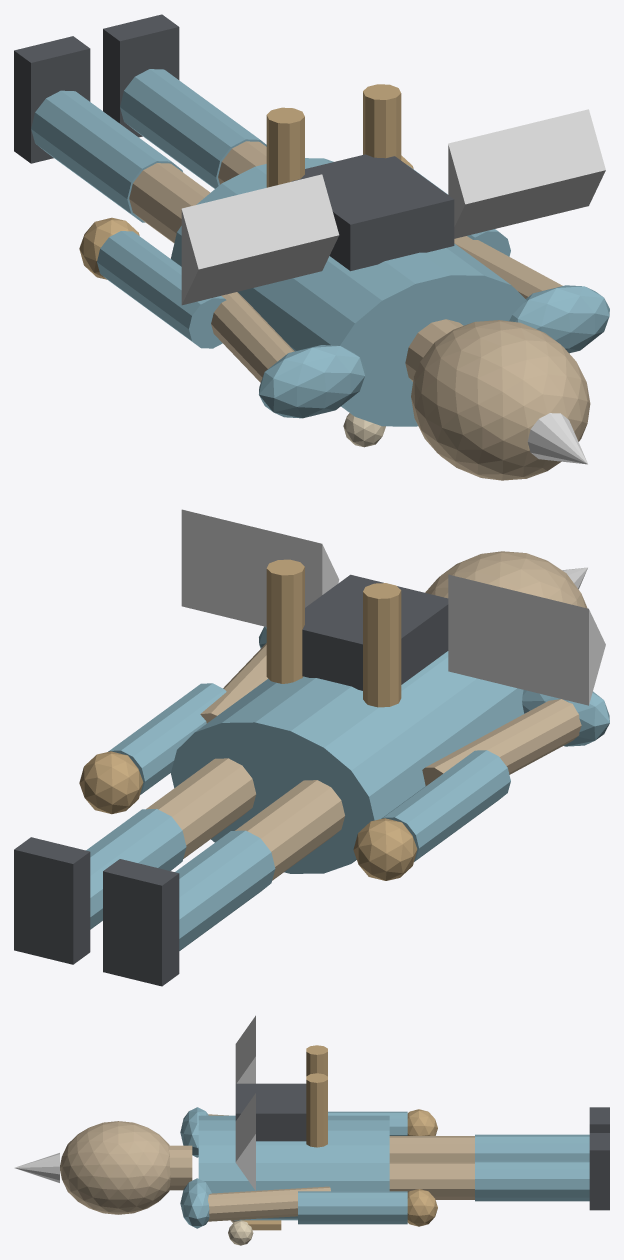
Rendered from SWN-012_maeve_quill.glb.
3 renders of one model, top to bottom at view 1: azimuth 30°, elevation 25°; view 2: azimuth 150°, elevation 25°; view 3: azimuth 270°, elevation 25°, orthographic. The views are drawn at different scales.
Parts seen in each view (by area): view 1: body_spine, head, folded_wing_-1, folded_wing_1, back_thruster_pack, greave_-1, greave_1, forearm_gauntlet_-1, shoulder_plate_-1, boot_-1, boot_1, shoulder_plate_1 (+11 smaller); view 2: body_spine, folded_wing_-1, folded_wing_1, back_thruster_pack, boot_1, boot_-1, greave_-1, forearm_gauntlet_-1, thigh_1, thigh_-1, upper_arm_-1, greave_1 (+8 smaller); view 3: body_spine, head, greave_1, forearm_gauntlet_1, back_thruster_pack, greave_-1, thigh_1, upper_arm_1, thigh_-1, boot_1, aether_thruster_1, folded_wing_1 (+12 smaller).
Boxes of the visible parts, box(x1,y1,x2,y2) form: body_spine: box(171, 158, 526, 426); head: box(411, 320, 590, 480); folded_wing_-1: box(181, 174, 339, 305); folded_wing_1: box(448, 109, 605, 238); back_thruster_pack: box(291, 154, 454, 271); greave_-1: box(31, 90, 182, 222); greave_1: box(120, 69, 266, 188); forearm_gauntlet_-1: box(97, 231, 226, 348); shoulder_plate_-1: box(259, 345, 365, 418); boot_-1: box(14, 36, 90, 163); boot_1: box(103, 14, 179, 137); shoulder_plate_1: box(509, 285, 609, 353); body_spine: box(171, 651, 524, 873); folded_wing_-1: box(448, 574, 605, 705); folded_wing_1: box(181, 509, 339, 626); back_thruster_pack: box(302, 574, 448, 690); boot_1: box(14, 837, 90, 964); boot_-1: box(103, 859, 179, 986); greave_-1: box(175, 830, 275, 950); forearm_gauntlet_-1: box(382, 750, 510, 861); thigh_1: box(146, 758, 256, 858); thigh_-1: box(235, 780, 344, 880); upper_arm_-1: box(422, 699, 581, 786); greave_1: box(86, 809, 186, 929); body_spine: box(198, 1115, 389, 1220); head: box(60, 1121, 170, 1214); greave_1: box(475, 1160, 589, 1201); forearm_gauntlet_1: box(298, 1191, 407, 1224); back_thruster_pack: box(235, 1083, 306, 1141); greave_-1: box(475, 1134, 589, 1160); thigh_1: box(389, 1162, 474, 1199); upper_arm_1: box(208, 1186, 330, 1221); thigh_-1: box(389, 1136, 474, 1161); boot_1: box(589, 1133, 609, 1210); aether_thruster_1: box(306, 1073, 327, 1147); folded_wing_1: box(235, 1093, 255, 1190).
Size of the model in its own units: 1.1 by 0.74 by 2.34.
